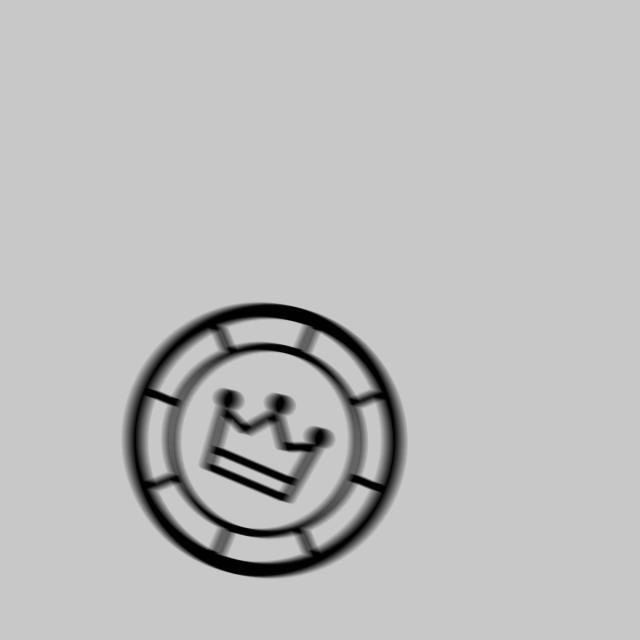coin: (115, 297, 414, 588)
